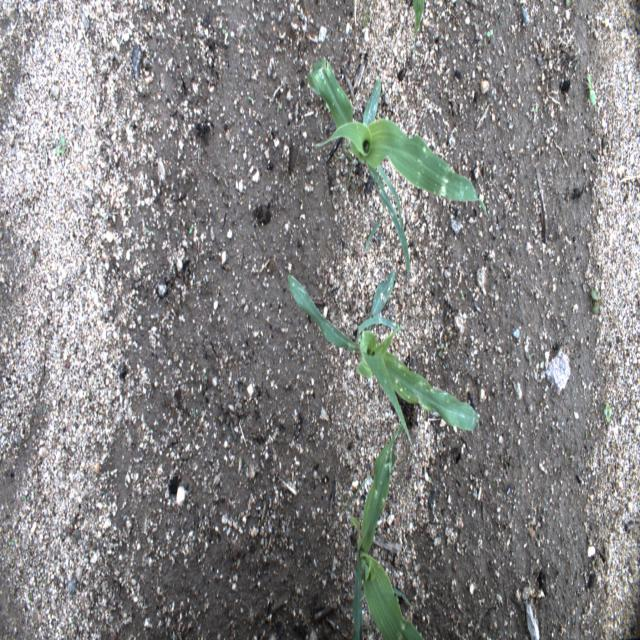crop: (308, 56, 487, 280), (286, 269, 482, 453), (347, 434, 426, 638), (412, 0, 426, 52)
weed: (26, 237, 50, 272), (586, 281, 606, 320), (582, 62, 597, 112), (351, 3, 369, 44), (600, 391, 617, 428), (433, 336, 452, 359), (55, 132, 69, 161), (528, 94, 542, 120), (99, 209, 113, 233), (485, 19, 500, 40), (188, 215, 197, 247)
